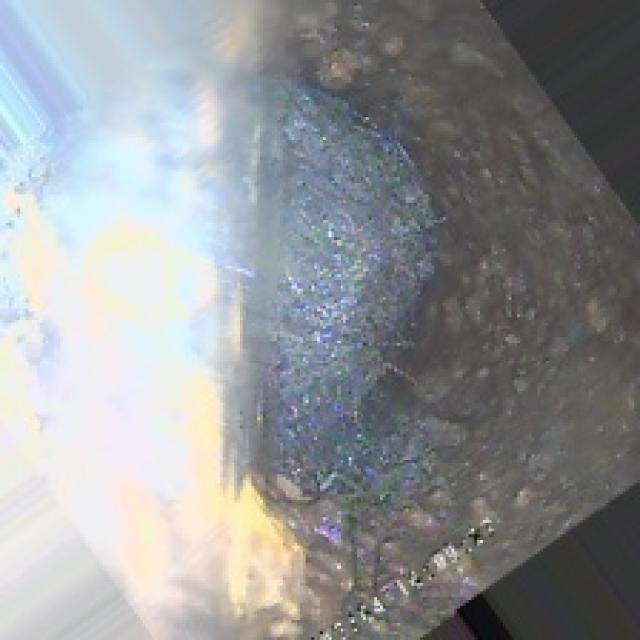Root_blockage: (263, 66, 448, 488)
